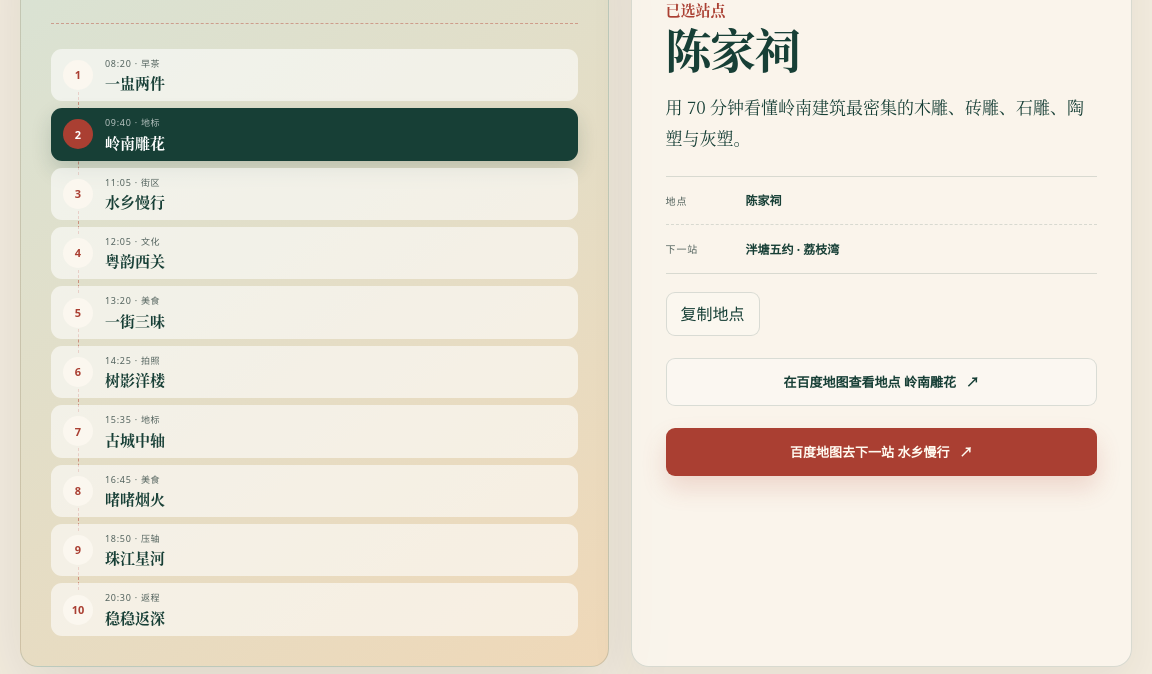
Test: TripViews › confirms a copied place and uses the exact Guangzhou search text
(page scrolled)
Click the button "复制地点" at (713,314), box [666,292,760,336]
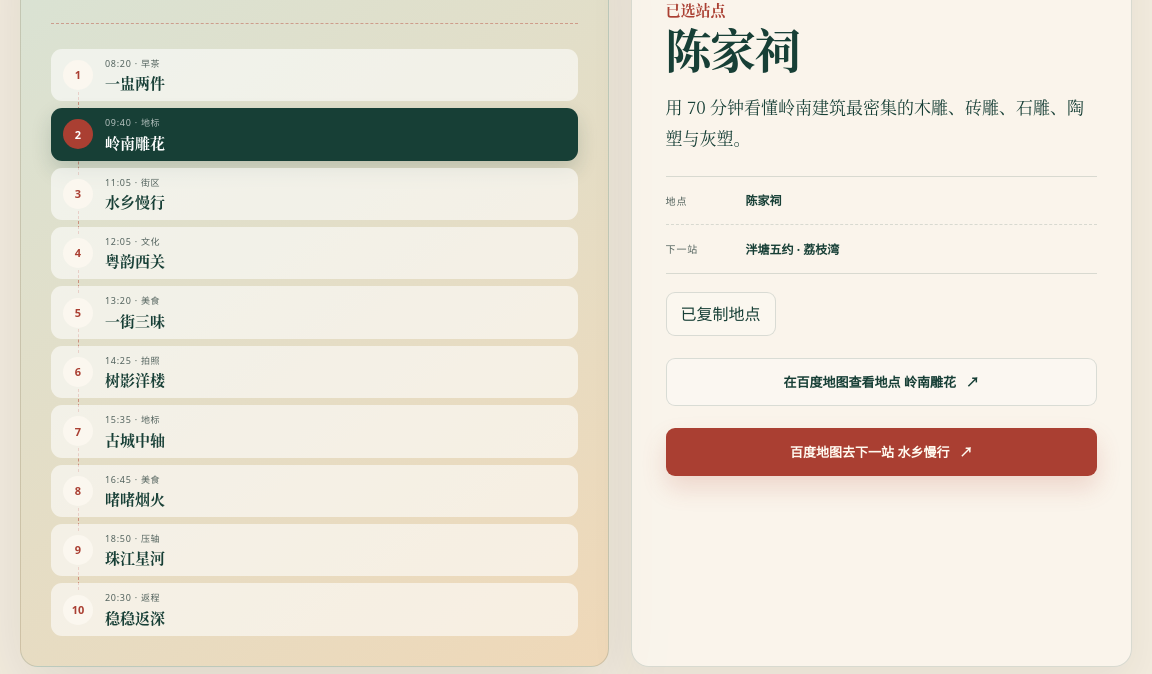
Now the button "已复制地点" is shown, box [666,292,776,336]
